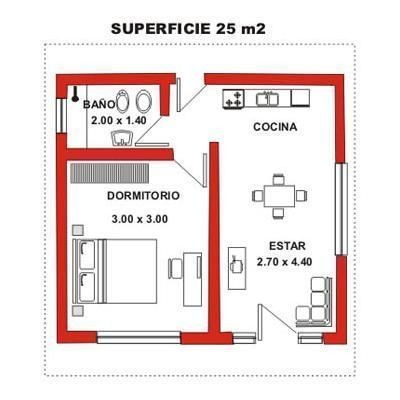room: (202, 63, 349, 352), (48, 135, 224, 349), (54, 73, 178, 169)
wall: (54, 73, 173, 117), (52, 134, 75, 343), (205, 142, 227, 341), (206, 68, 349, 89), (77, 148, 179, 168), (330, 86, 350, 164), (335, 255, 350, 346)
